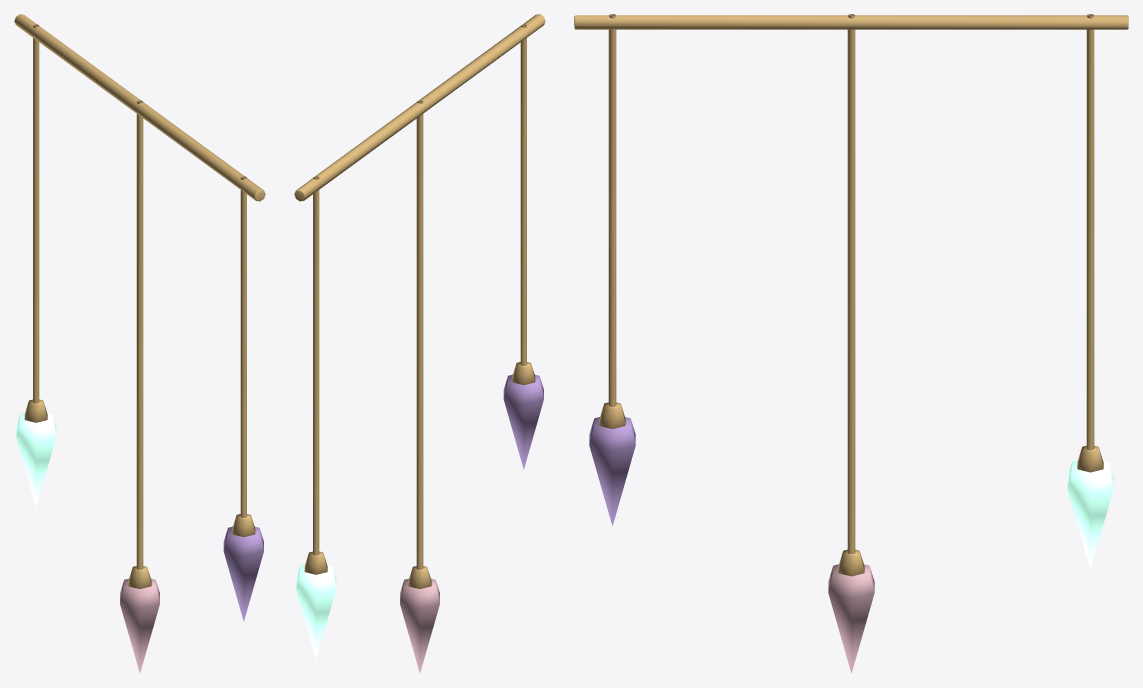
The model's file is Hanging_Crystals.fbx.
3 views of the same model, side by side, from view 1: azimuth 30°, elevation 25°; view 2: azimuth 150°, elevation 25°; view 3: azimuth 270°, elevation 25° (orthographic). The views are drawn at different scales.
Visible parts, largest first — view 1: Hanging_Crystals_Mesh; view 2: Hanging_Crystals_Mesh; view 3: Hanging_Crystals_Mesh.
Part boxes in pixels (bbox=[...]): Hanging_Crystals_Mesh: bbox=[14, 14, 265, 672]; Hanging_Crystals_Mesh: bbox=[294, 14, 545, 672]; Hanging_Crystals_Mesh: bbox=[574, 14, 1128, 673].
Size of the model in its own units: 0.056 by 0.76 by 0.58.
